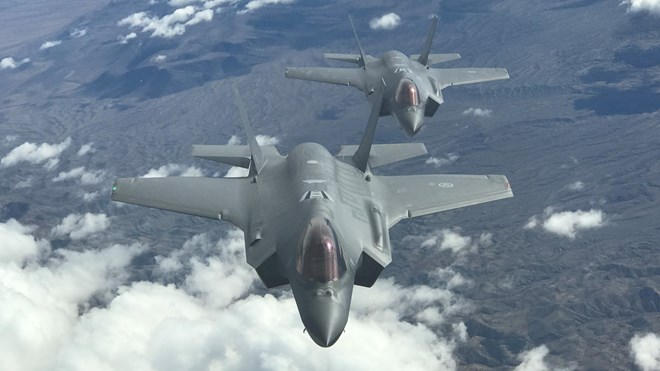F-35 Lightning: (97, 90, 523, 337), (297, 7, 517, 132)
